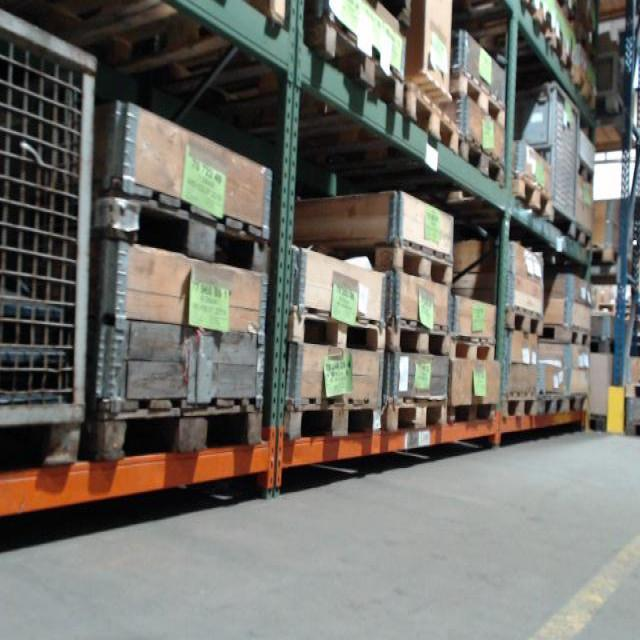pallet: (151, 24, 408, 149), (93, 174, 270, 274), (91, 396, 269, 465), (17, 2, 292, 31), (335, 236, 456, 285), (403, 87, 462, 171), (288, 305, 386, 354), (288, 396, 386, 443), (450, 61, 511, 130), (484, 34, 575, 73), (451, 136, 507, 199), (447, 4, 549, 31), (387, 396, 448, 440), (386, 318, 451, 359), (504, 171, 555, 219), (492, 301, 542, 334), (451, 397, 496, 433), (538, 318, 590, 348), (451, 335, 498, 367), (572, 65, 598, 118), (501, 392, 540, 424), (539, 388, 566, 422), (566, 389, 591, 416), (574, 224, 593, 255), (578, 157, 596, 189)
stillage: (3, 2, 100, 474), (506, 74, 583, 245), (591, 44, 635, 123)
